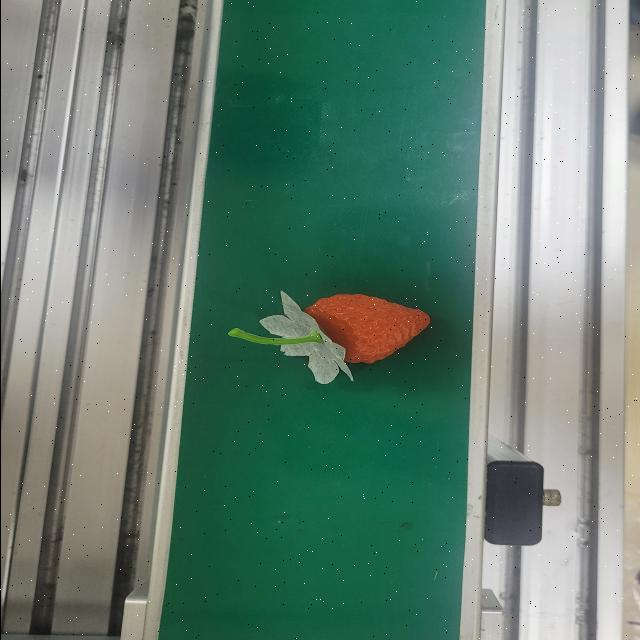Small Ripe Strawberry: (258, 292, 434, 386)
